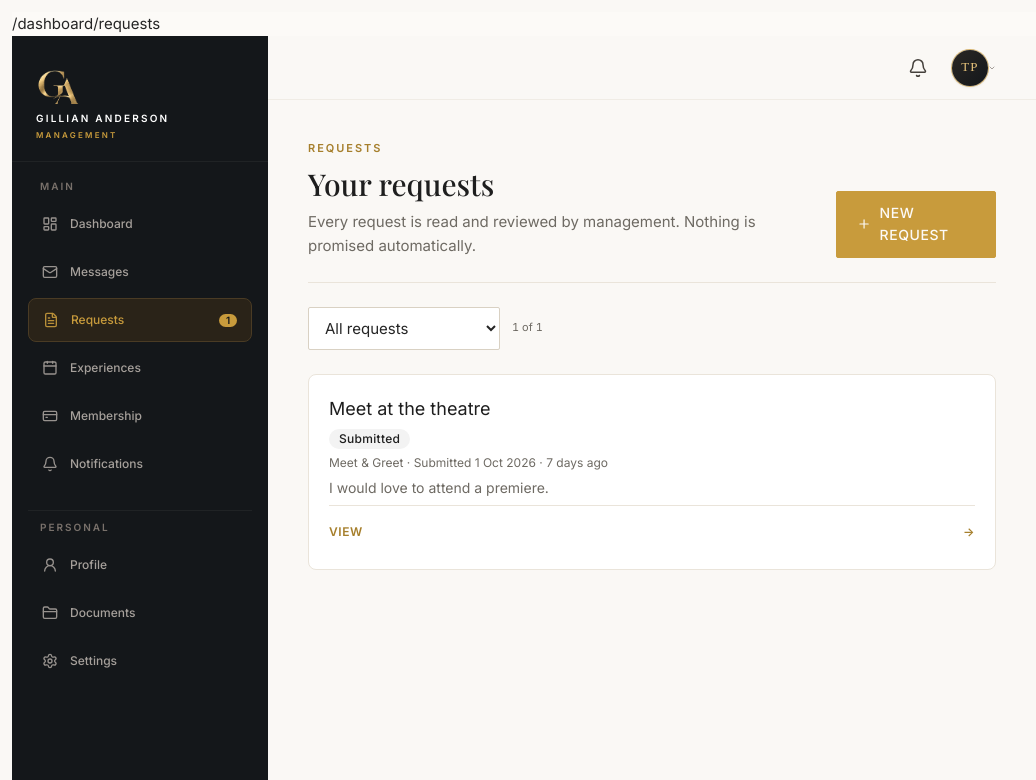
Test case: requests › lists requests with status filters
Check: the text "Meet at the theatre" is shown, box [329, 398, 490, 419]
Select "Under Review" in the dropdown named "Status". click: {"x": 404, "y": 328}
box: [308, 307, 500, 350]
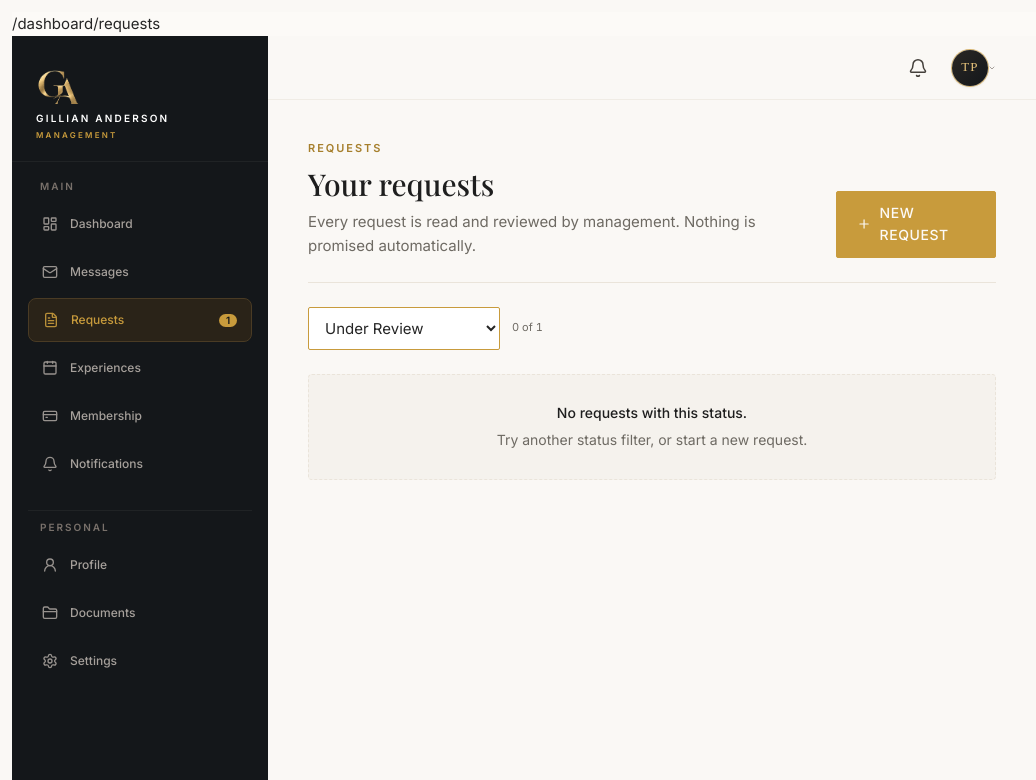
Check: the text "No requests with this status." is shown, box [557, 404, 747, 421]
Select "All requests" in the dropdown named "Status". click: {"x": 404, "y": 328}
box: [308, 307, 500, 350]
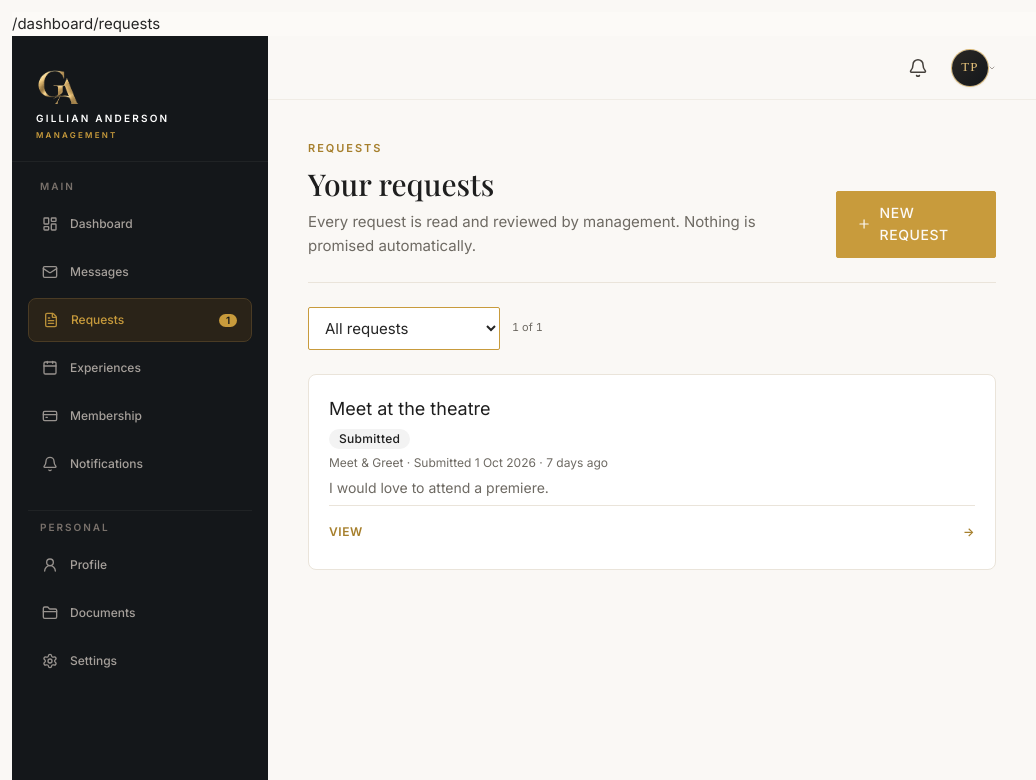
Check: the text "Meet at the theatre" is shown, box [329, 398, 490, 419]
